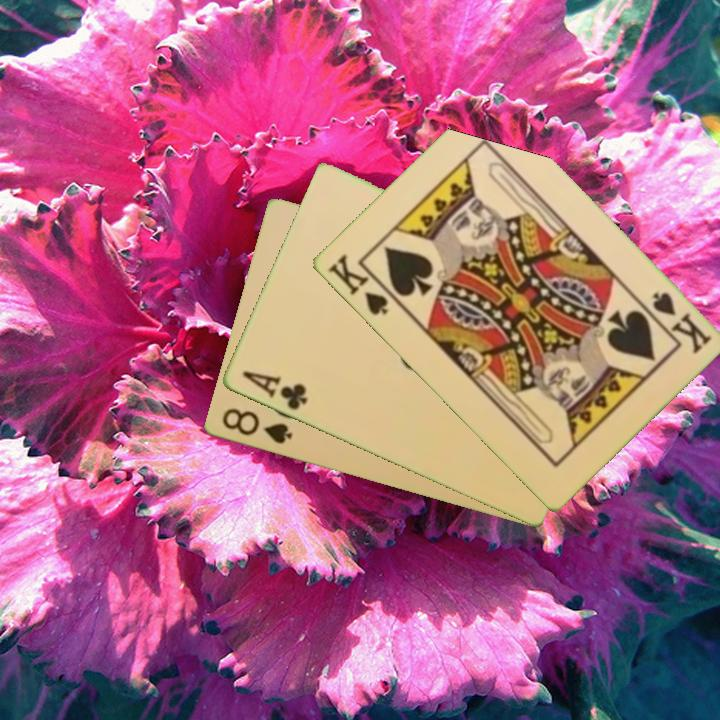8s: (218, 405, 295, 448)
Ac: (238, 367, 310, 413)
Ks: (324, 251, 400, 318), (648, 288, 714, 357)
